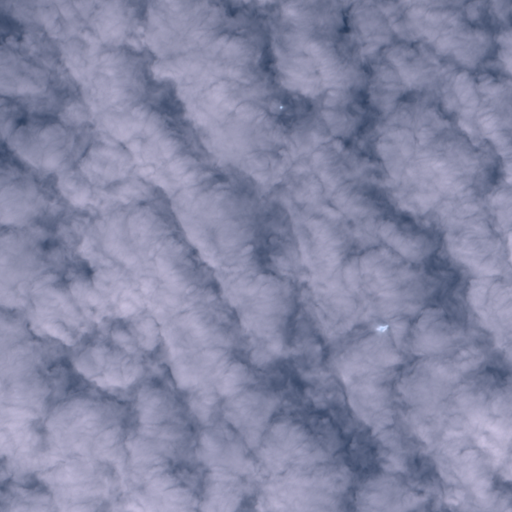Iceberg: (376, 325, 387, 331), (280, 106, 282, 108)
